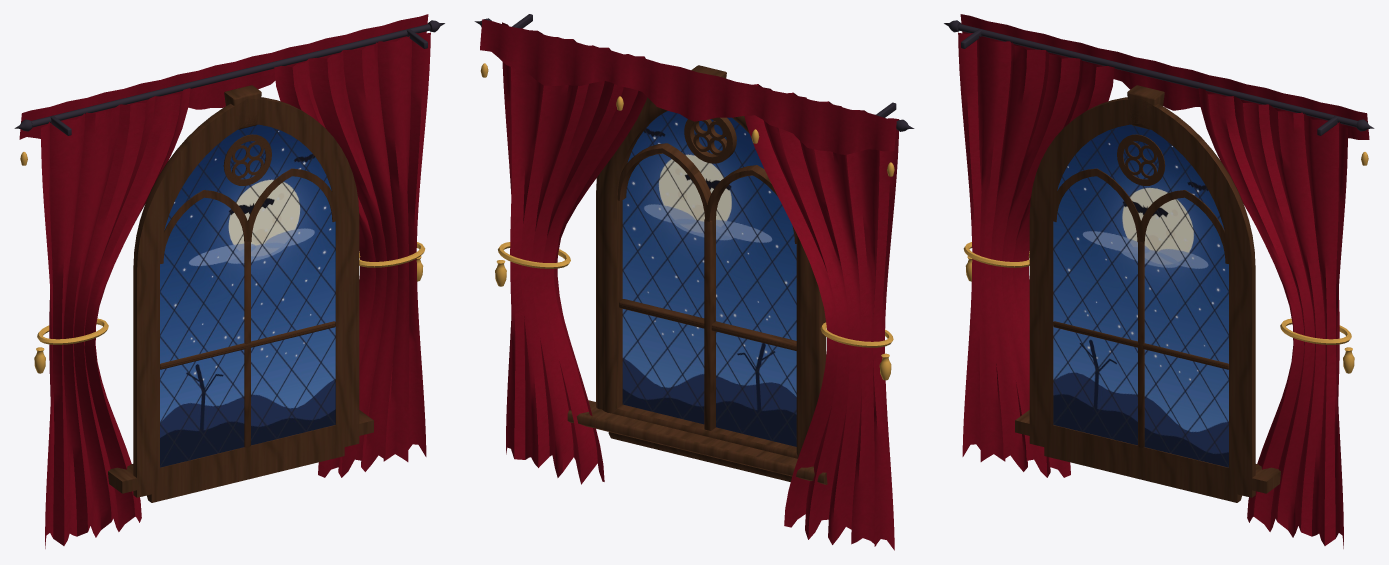
File: manor_window_moon.glb
3 views of the same model, side by side, from view 1: azimuth 30°, elevation 25°; view 2: azimuth 150°, elevation 25°; view 3: azimuth 330°, elevation 25° (orthographic).
Visible parts, largest first — view 1: Window_Moon; view 2: Window_Moon; view 3: Window_Moon.
Boxes of the visible parts, x1=… form: Window_Moon: x1=14, y1=14, x2=444, y2=548; Window_Moon: x1=474, y1=14, x2=914, y2=550; Window_Moon: x1=944, y1=14, x2=1374, y2=548.
Size of the model in its own units: 2.06 by 2 by 0.237.
5 materials, 3 textured.
